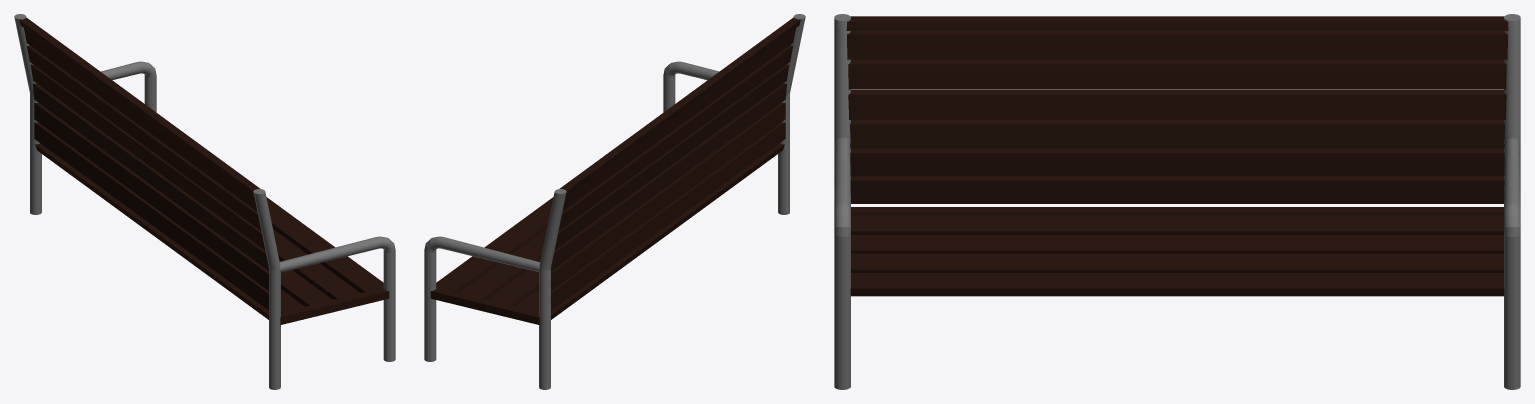
The model's file is Bench.fbx.
The picture shows the model from 3 angles, left to right: view 1: azimuth 30°, elevation 25°; view 2: azimuth 150°, elevation 25°; view 3: azimuth 270°, elevation 25°; orthographic projection. The views are drawn at different scales.
Parts seen in each view (by area): view 1: Cylinder; view 2: Cylinder; view 3: Cylinder.
Part boxes in pixels (left/top/right/bottom): Cylinder: left=14, top=14, right=395, bottom=389; Cylinder: left=424, top=14, right=805, bottom=389; Cylinder: left=834, top=14, right=1520, bottom=389.
Bounding box in the file's own units: 1167 × 387 × 525.
